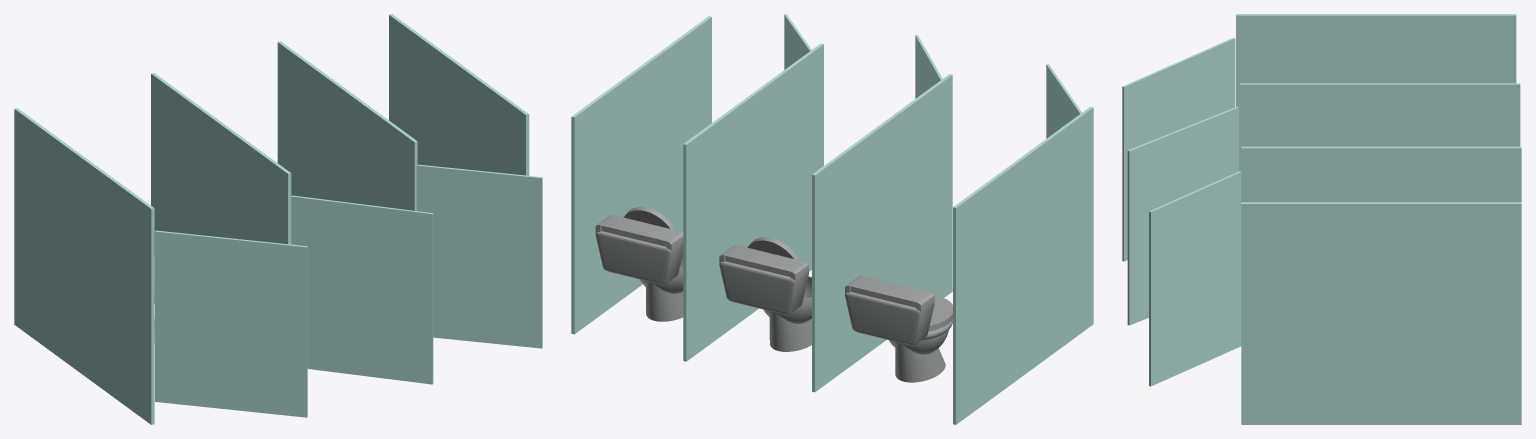
Rendered from TOILET STABLE .fbx.
3 views of the same model, side by side, from view 1: azimuth 30°, elevation 25°; view 2: azimuth 150°, elevation 25°; view 3: azimuth 270°, elevation 25° (orthographic). The views are drawn at different scales.
Visible parts, largest first — view 1: Cube.001, Cube.007, Cube.008, Cube.009, Cube.002, Cube.004, Cube.006; view 2: Cube.001, Cube.002, Cube.004, Cube.006, Cube, Cube.003, Cube.005, Cylinder.005, Cube.007, Cylinder.001, Cylinder.007, Cube.008 (+6 smaller); view 3: Cube.006, Cube.001, Cube.002, Cube.009, Cube.004, Cube.008, Cube.007.
Boxes of the visible parts, <box> form: Cube.001: <box>14,108,154,424</box>; Cube.007: <box>155,230,307,417</box>; Cube.008: <box>291,195,433,384</box>; Cube.009: <box>416,164,542,348</box>; Cube.002: <box>151,73,291,255</box>; Cube.004: <box>277,41,417,210</box>; Cube.006: <box>389,14,529,175</box>; Cube.001: <box>953,106,1093,424</box>; Cube.002: <box>812,74,952,392</box>; Cube.004: <box>683,43,823,361</box>; Cube.006: <box>571,16,711,334</box>; Cube: <box>845,275,934,345</box>; Cube.003: <box>719,245,808,314</box>; Cube.005: <box>595,215,683,284</box>; Cylinder.005: <box>895,344,945,382</box>; Cube.007: <box>1046,64,1081,138</box>; Cylinder.001: <box>769,298,811,351</box>; Cylinder.007: <box>646,267,683,321</box>; Cube.008: <box>915,34,942,98</box>; Cube.006: <box>1241,202,1521,424</box>; Cube.001: <box>1236,14,1516,170</box>; Cube.002: <box>1240,83,1520,171</box>; Cube.009: <box>1149,171,1241,386</box>; Cube.004: <box>1241,146,1521,202</box>; Cube.008: <box>1127,107,1238,325</box>; Cube.007: <box>1122,37,1235,261</box>.
Size of the model in its own units: 2007 by 1089 by 1784.
